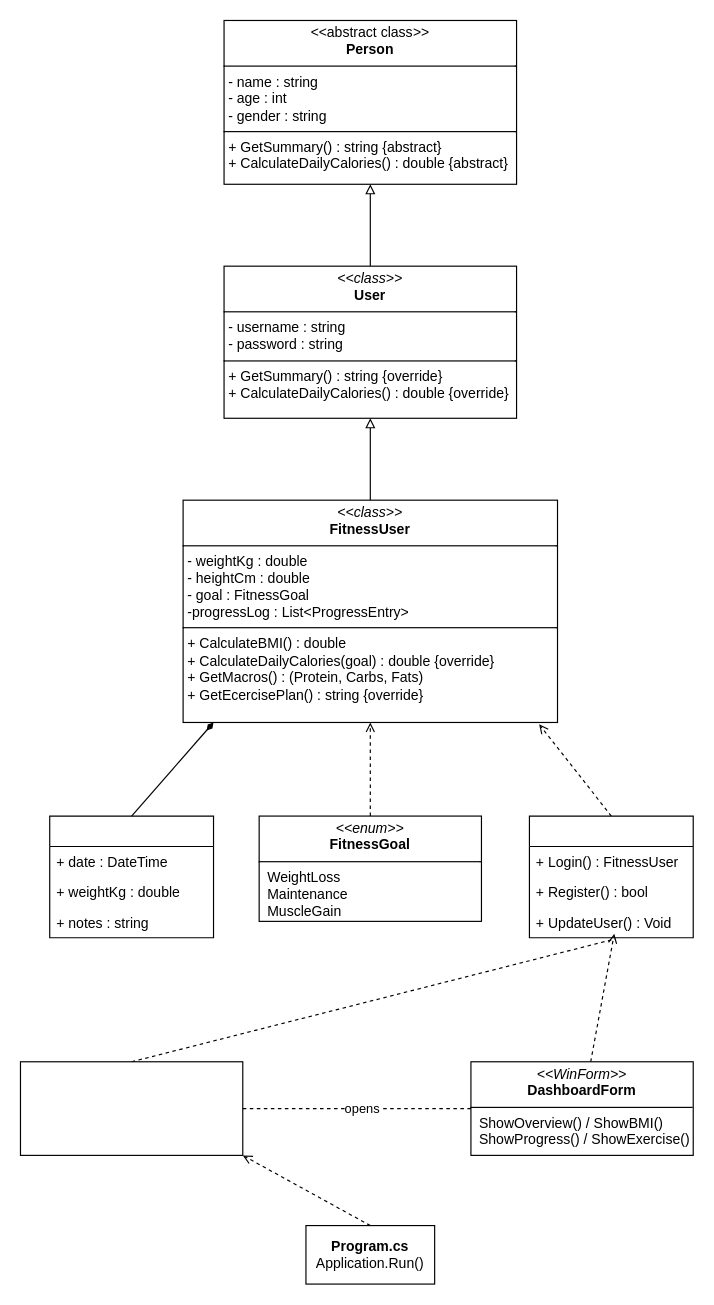
Some shapes in this 714 by 1305 pixel diagram are drawn without their labels. Each missing label, with the box of its shape:
<<WinForm>> LoginForm btnLogin_Click() btnRegister_Click(): (19, 1061, 243, 1155)
ProgressEntry: (49, 815, 214, 938)
UserRepository: (528, 815, 693, 938)
